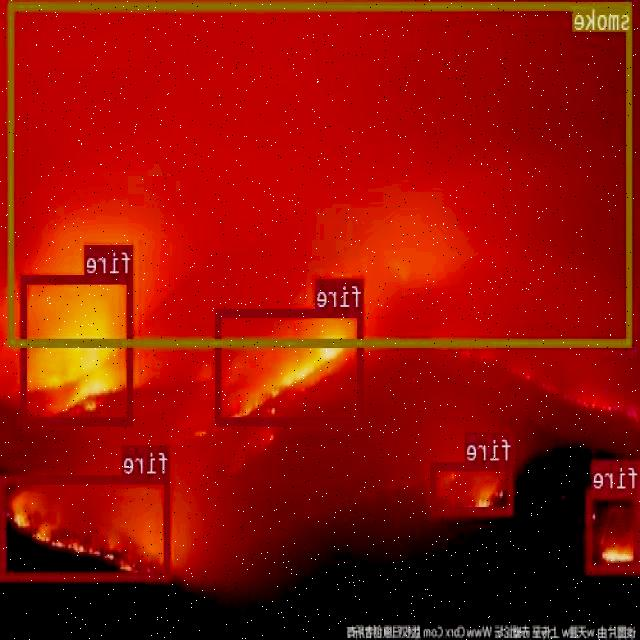fire: (2, 474, 172, 578), (216, 308, 364, 424), (22, 274, 134, 424), (432, 461, 514, 515), (588, 488, 640, 570)
smoke: (10, 1, 633, 346)
